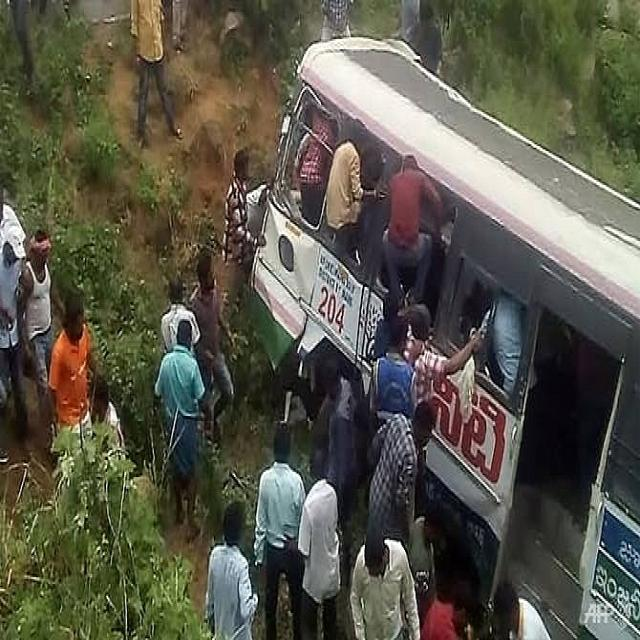accident: (250, 38, 640, 638)
